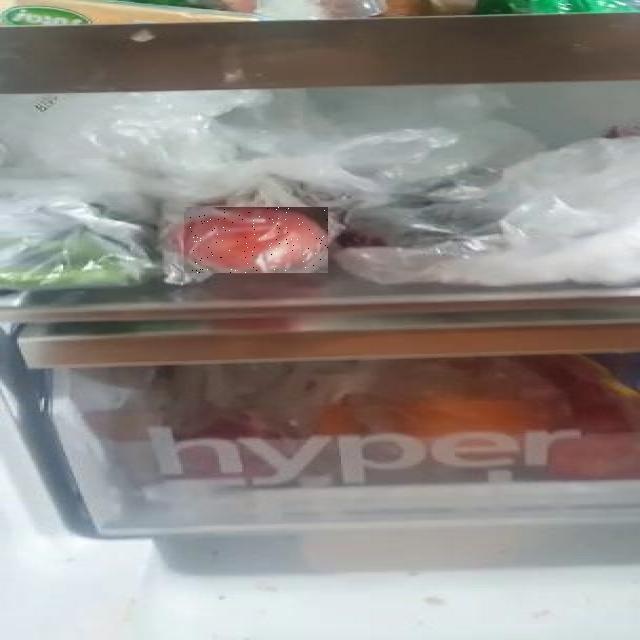Tomato Paste: (184, 207, 328, 273)
